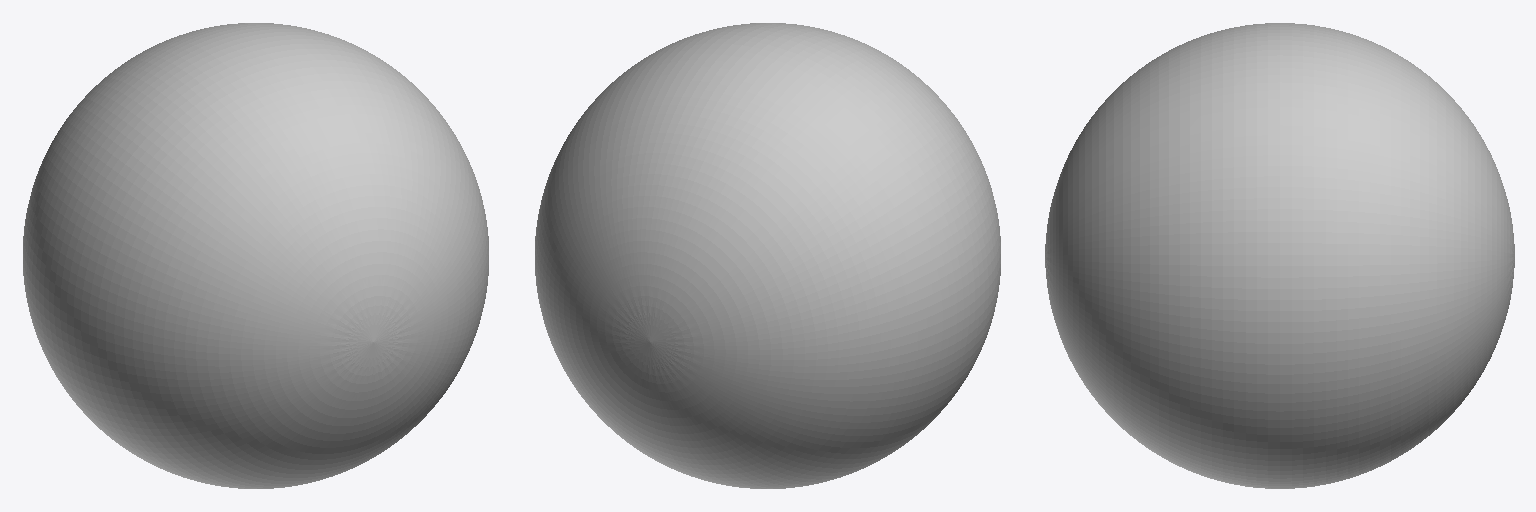
Rendered from venus.obj.
3 views of the same model, side by side, from view 1: azimuth 30°, elevation 25°; view 2: azimuth 150°, elevation 25°; view 3: azimuth 270°, elevation 25° (orthographic).
Parts seen in each view (by area): view 1: venus; view 2: venus; view 3: venus.
Part boxes in pixels (x1,y1,x2,y2): venus: (23, 23, 488, 488); venus: (535, 23, 1000, 488); venus: (1045, 23, 1514, 488).
Size of the model in its own units: 965 by 965 by 975.